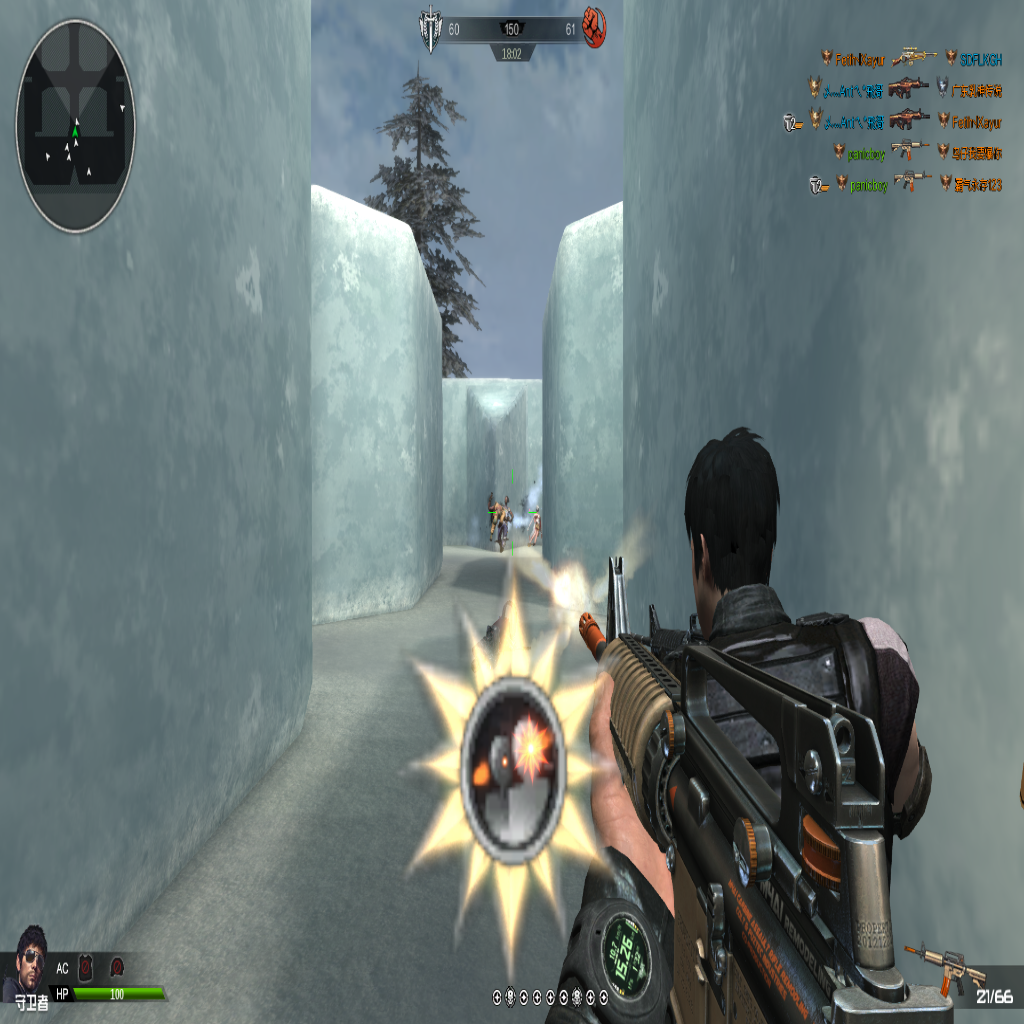tt: (491, 493, 507, 551)
